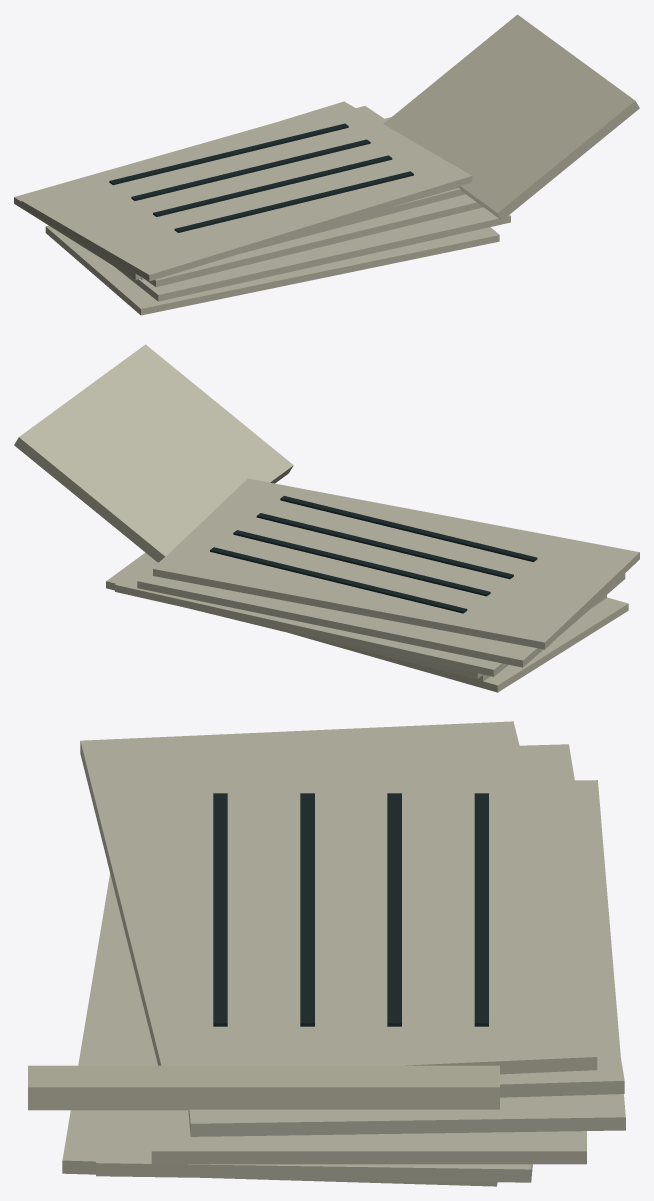
The model's file is ticket-stack.glb.
3 views of the same model, one above another, from view 1: azimuth 30°, elevation 25°; view 2: azimuth 150°, elevation 25°; view 3: azimuth 270°, elevation 25° (orthographic). The views are drawn at different scales.
Visible parts, largest first — view 1: ticket-stack; view 2: ticket-stack; view 3: ticket-stack.
Part boxes in pixels (left/top/right/bottom): ticket-stack: left=14, top=14, right=639, bottom=315; ticket-stack: left=14, top=344, right=639, bottom=692; ticket-stack: left=28, top=721, right=625, bottom=1186.
Size of the model in its own units: 0.1583 by 0.0353 by 0.0823.
